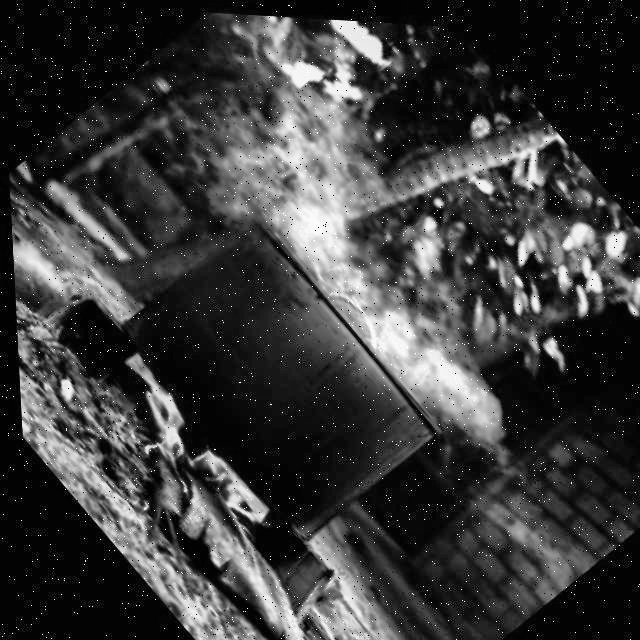Fire: (79, 341, 281, 561)
Smoke: (196, 64, 578, 473)
